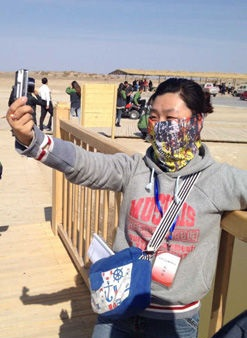face_mask: (148, 91, 193, 161)
